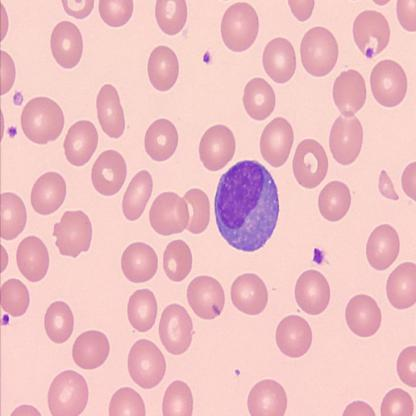Atypical lymphocyte: (212, 155, 283, 254)
